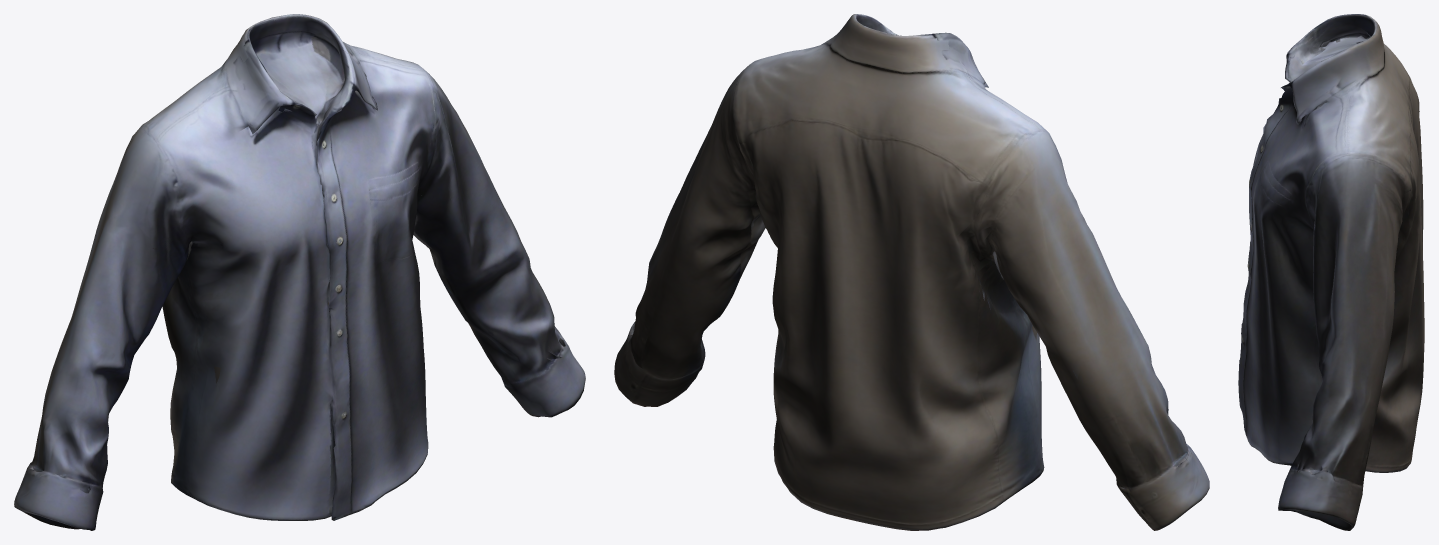
File: shirts.glb
The picture shows the model from 3 angles, left to right: view 1: azimuth 30°, elevation 25°; view 2: azimuth 150°, elevation 25°; view 3: azimuth 270°, elevation 25°; orthographic projection. The views are drawn at different scales.
Bounding box in the file's own units: 1.99 × 1.56 × 0.6315.
1 material, 1 textured.
